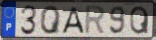3: (20, 4, 38, 36)
9: (108, 5, 127, 36)
A: (60, 6, 86, 35)
Q: (40, 5, 63, 36), (129, 5, 150, 36)
R: (83, 4, 107, 36)
